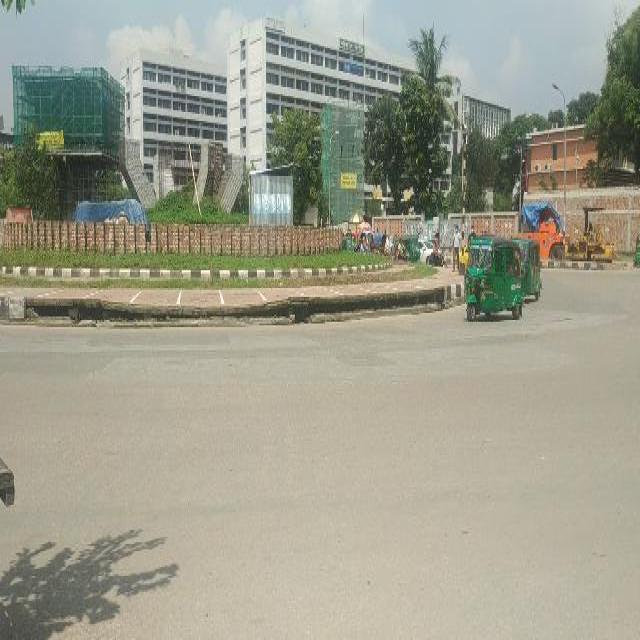rickshaw: (372, 231, 386, 253)
three wheelers -CNG-: (462, 233, 522, 315), (520, 237, 542, 307), (392, 232, 418, 252)
